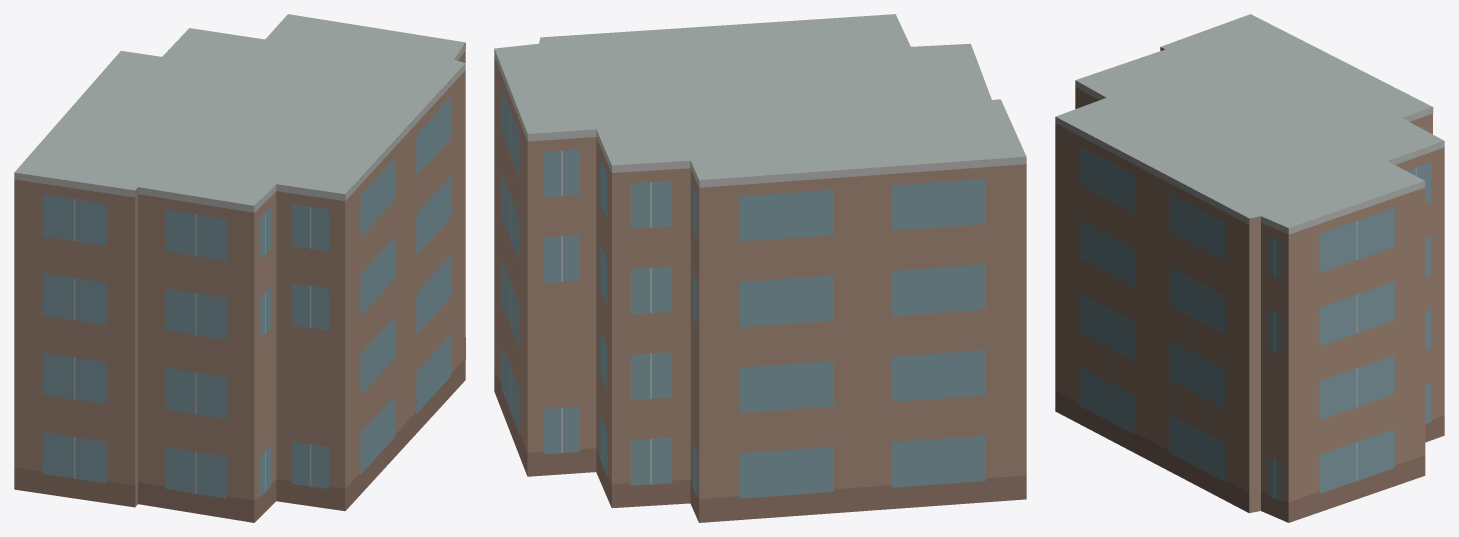
The model's file is survey-upis-32502251.glb.
3 views of the same model, side by side, from view 1: azimuth 30°, elevation 25°; view 2: azimuth 150°, elevation 25°; view 3: azimuth 270°, elevation 25° (orthographic). The views are drawn at different scales.
Visible parts, largest first — view 1: survey-upis-32502251.tmp; view 2: survey-upis-32502251.tmp; view 3: survey-upis-32502251.tmp.
Boxes of the visible parts, <box> form: survey-upis-32502251.tmp: <box>14,14,465,522</box>; survey-upis-32502251.tmp: <box>494,14,1026,522</box>; survey-upis-32502251.tmp: <box>1055,14,1444,522</box>.
Size of the model in its own units: 17.31 by 11.1 by 13.29.
